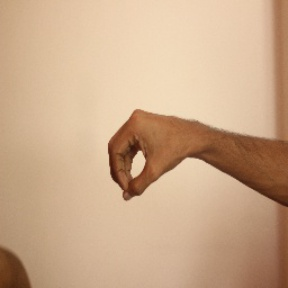O: (104, 105, 193, 202)
